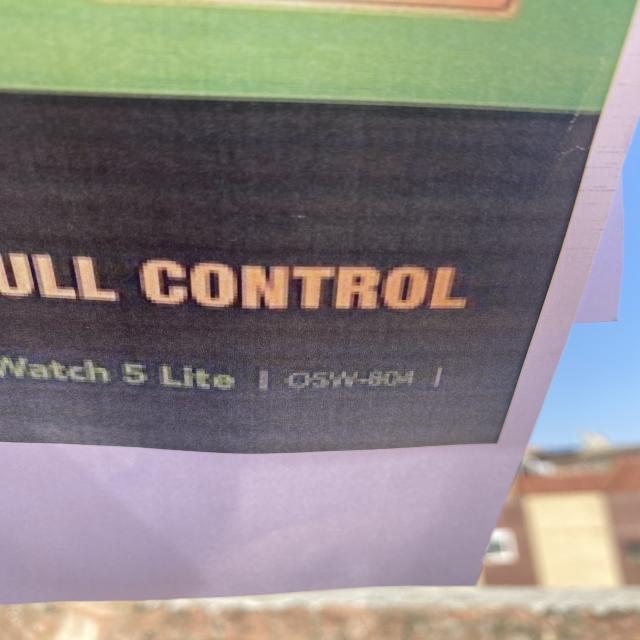Watch 5 Lite OSW-804: (0, 330, 466, 410)
